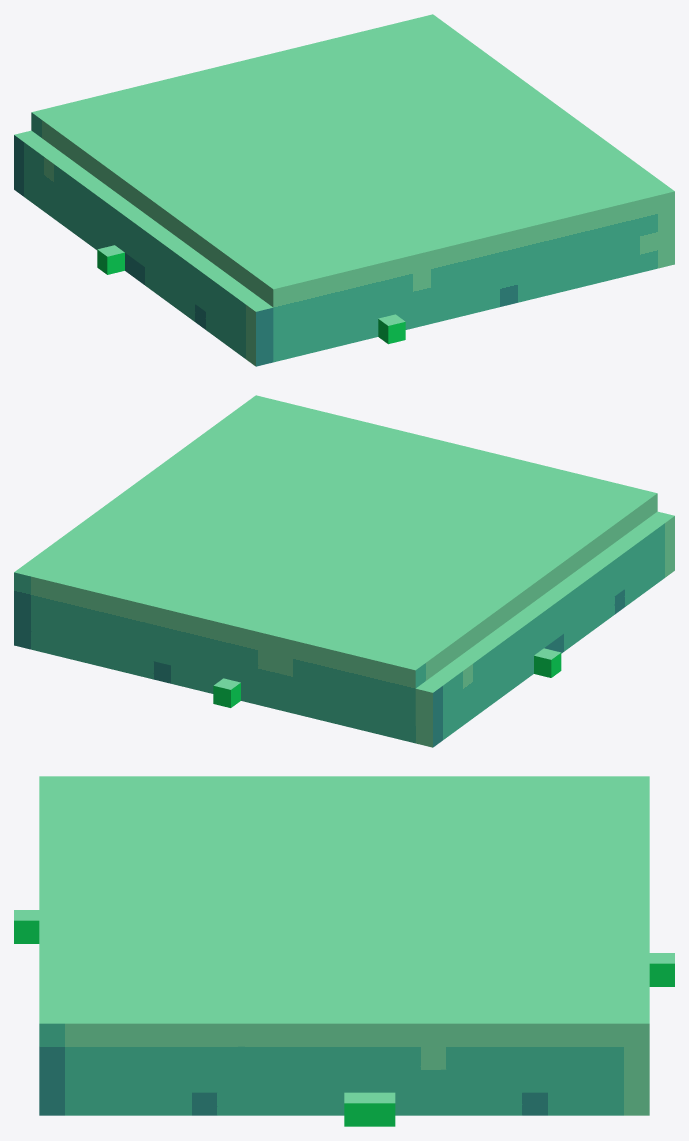
File: big_tombstone_baseao.fezao.glb
3 renders of one model, top to bottom at view 1: azimuth 30°, elevation 25°; view 2: azimuth 150°, elevation 25°; view 3: azimuth 270°, elevation 25°, orthographic. The views are drawn at different scales.
Parts seen in each view (by area): view 1: BIG_TOMBSTONE_BASEAO; view 2: BIG_TOMBSTONE_BASEAO; view 3: BIG_TOMBSTONE_BASEAO.
Part boxes in pixels (x1,y1,x2,y2): BIG_TOMBSTONE_BASEAO: (14, 14, 674, 366); BIG_TOMBSTONE_BASEAO: (14, 395, 674, 747); BIG_TOMBSTONE_BASEAO: (14, 776, 674, 1126).
Bounding box in the file's own units: 1.62 × 0.25 × 1.62.
1 material, 1 textured.
